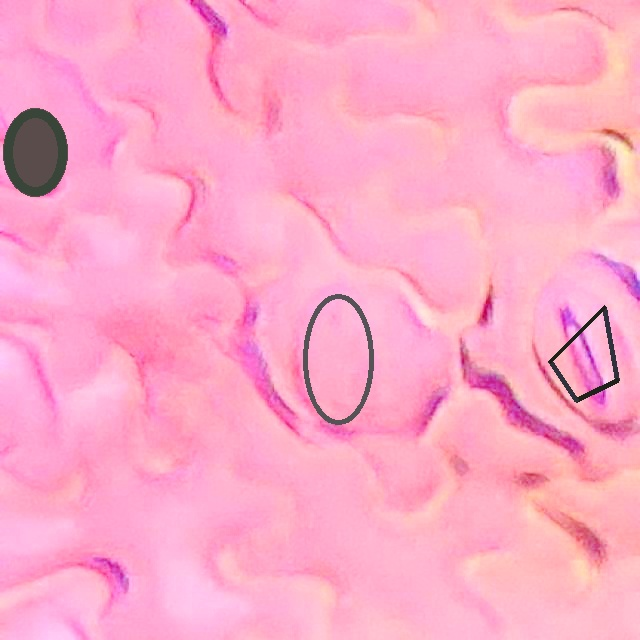close: (302, 293, 374, 425)
open: (548, 305, 619, 402), (3, 108, 67, 197)
